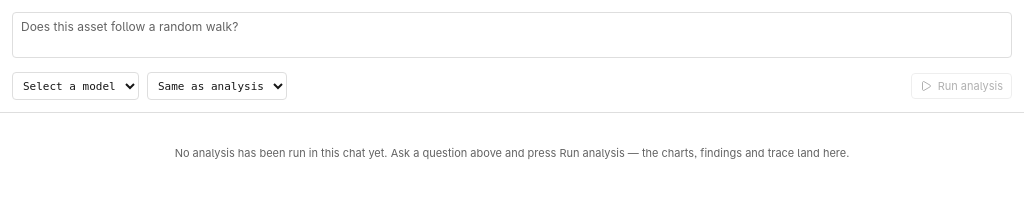
RunPanel › surfaces a refusal to start rather than hanging
This screenshot has width=1024, height=201.
Type "Does AAA follow a random walk?" into the text box named "Question" at (512, 35), box [12,12,1012,58]
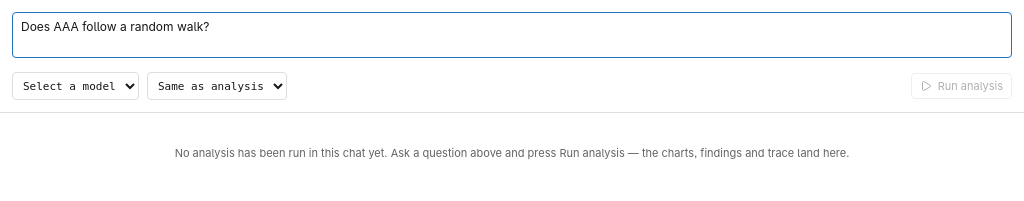
Select "ministral-3:8b" in the dropdown named "Analysis model" at (76, 86), box [12,72,139,100]
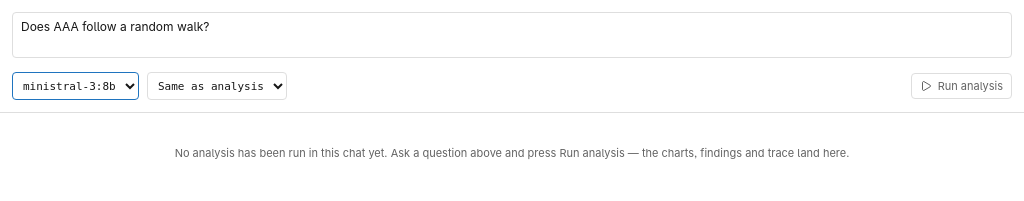
Click the button "Run analysis" at (961, 86), box [911,73,1012,99]
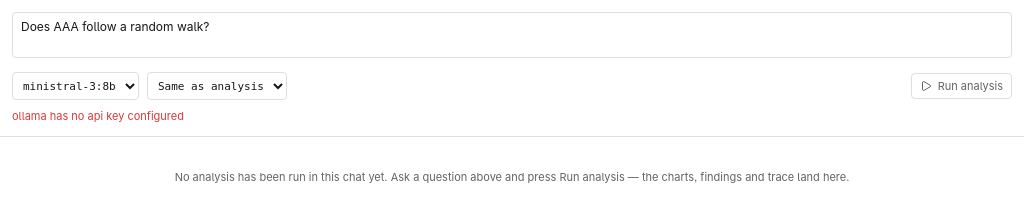
expect the message shows "no api key configured": met, box [12,109,184,123]
